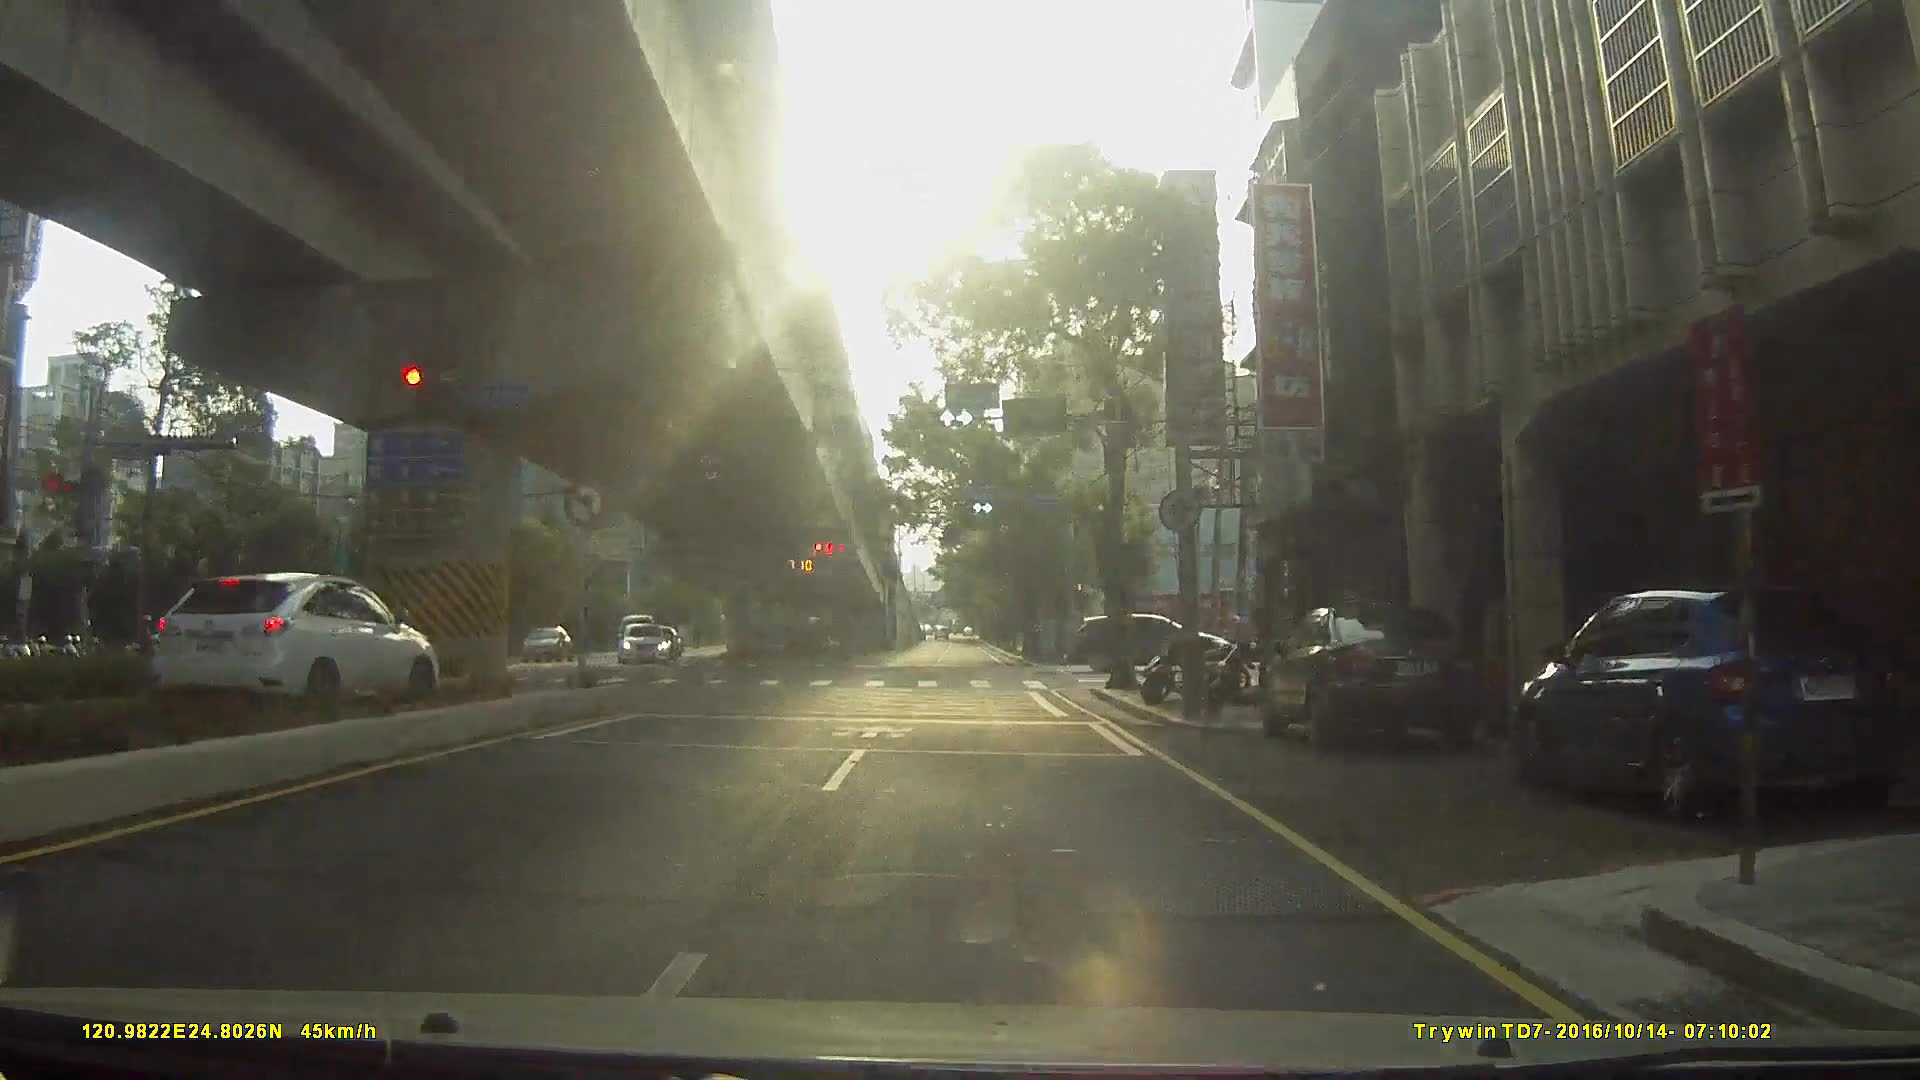vehicle: (1509, 579, 1895, 831), (146, 568, 439, 719), (1265, 600, 1495, 756), (1069, 609, 1241, 673), (616, 621, 667, 665), (516, 622, 567, 663)
